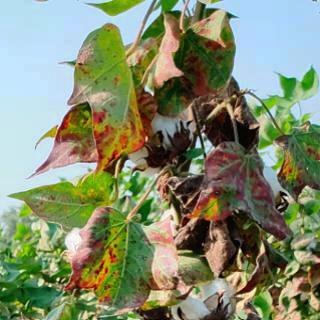blight: (56, 21, 155, 178), (185, 139, 296, 241), (66, 200, 156, 311), (162, 16, 245, 129)
